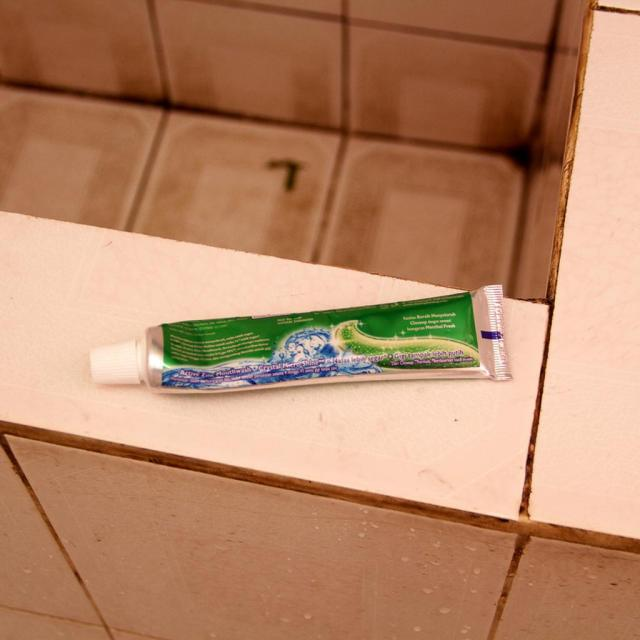Toothpaste: (86, 282, 516, 394)
